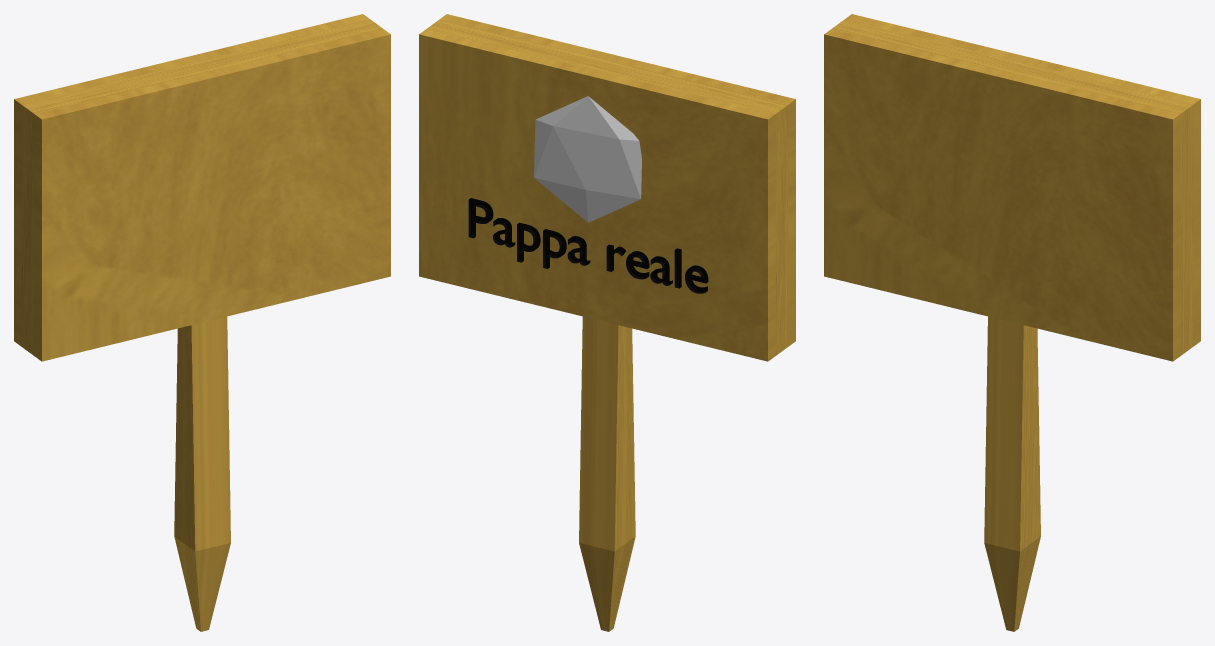
The model's file is Cartello_pappa_api.fbx.
3 views of the same model, side by side, from view 1: azimuth 30°, elevation 25°; view 2: azimuth 150°, elevation 25°; view 3: azimuth 330°, elevation 25° (orthographic).
Parts seen in each view (by area): view 1: Cartello_2; view 2: Cartello_2; view 3: Cartello_2.
Boxes of the visible parts, x1,y1,x2,y2 form: Cartello_2: (14, 14, 390, 631); Cartello_2: (419, 14, 795, 631); Cartello_2: (824, 14, 1200, 631).
Size of the model in its own units: 667 by 1027 by 113.
3 materials, 1 textured.
